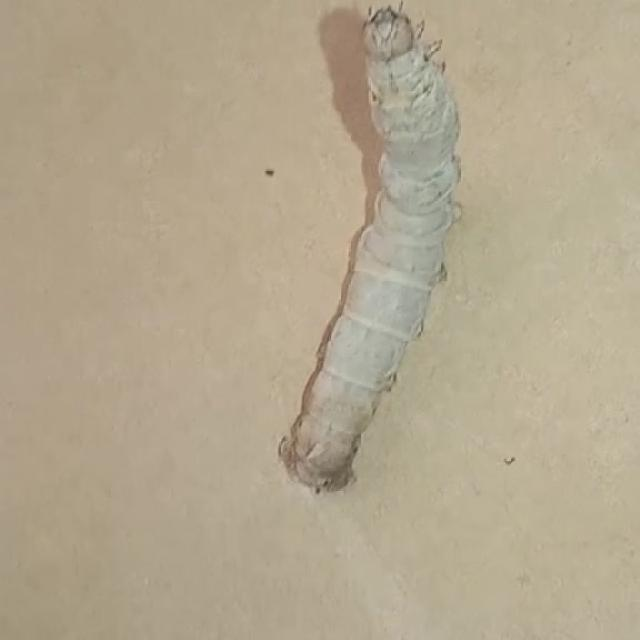Grasserie: (254, 0, 522, 519)
